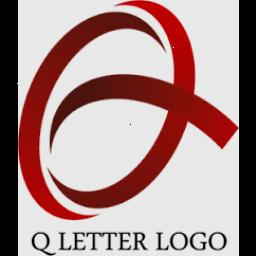q: (18, 0, 238, 226)
